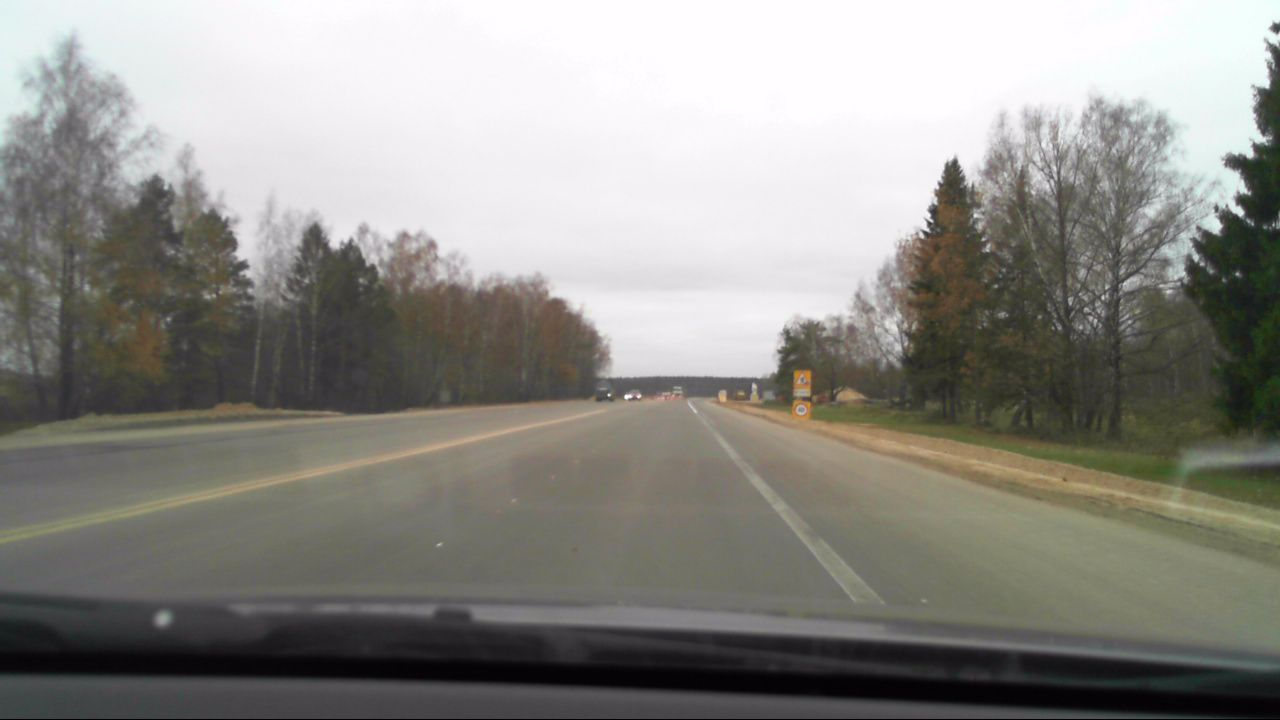speed_warning_40: (792, 400, 810, 419)
